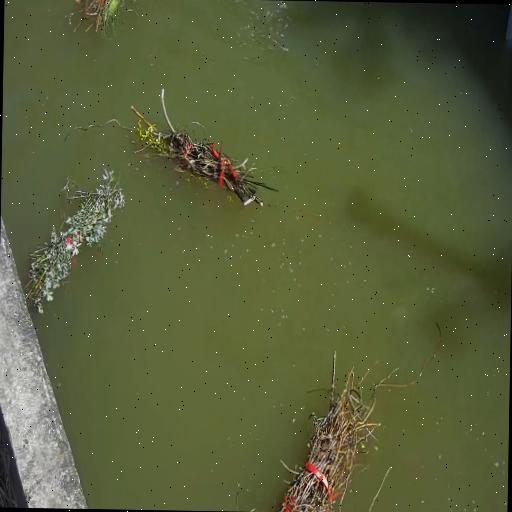twig: (279, 350, 415, 512), (132, 89, 278, 206), (27, 169, 125, 313), (74, 0, 126, 37)
